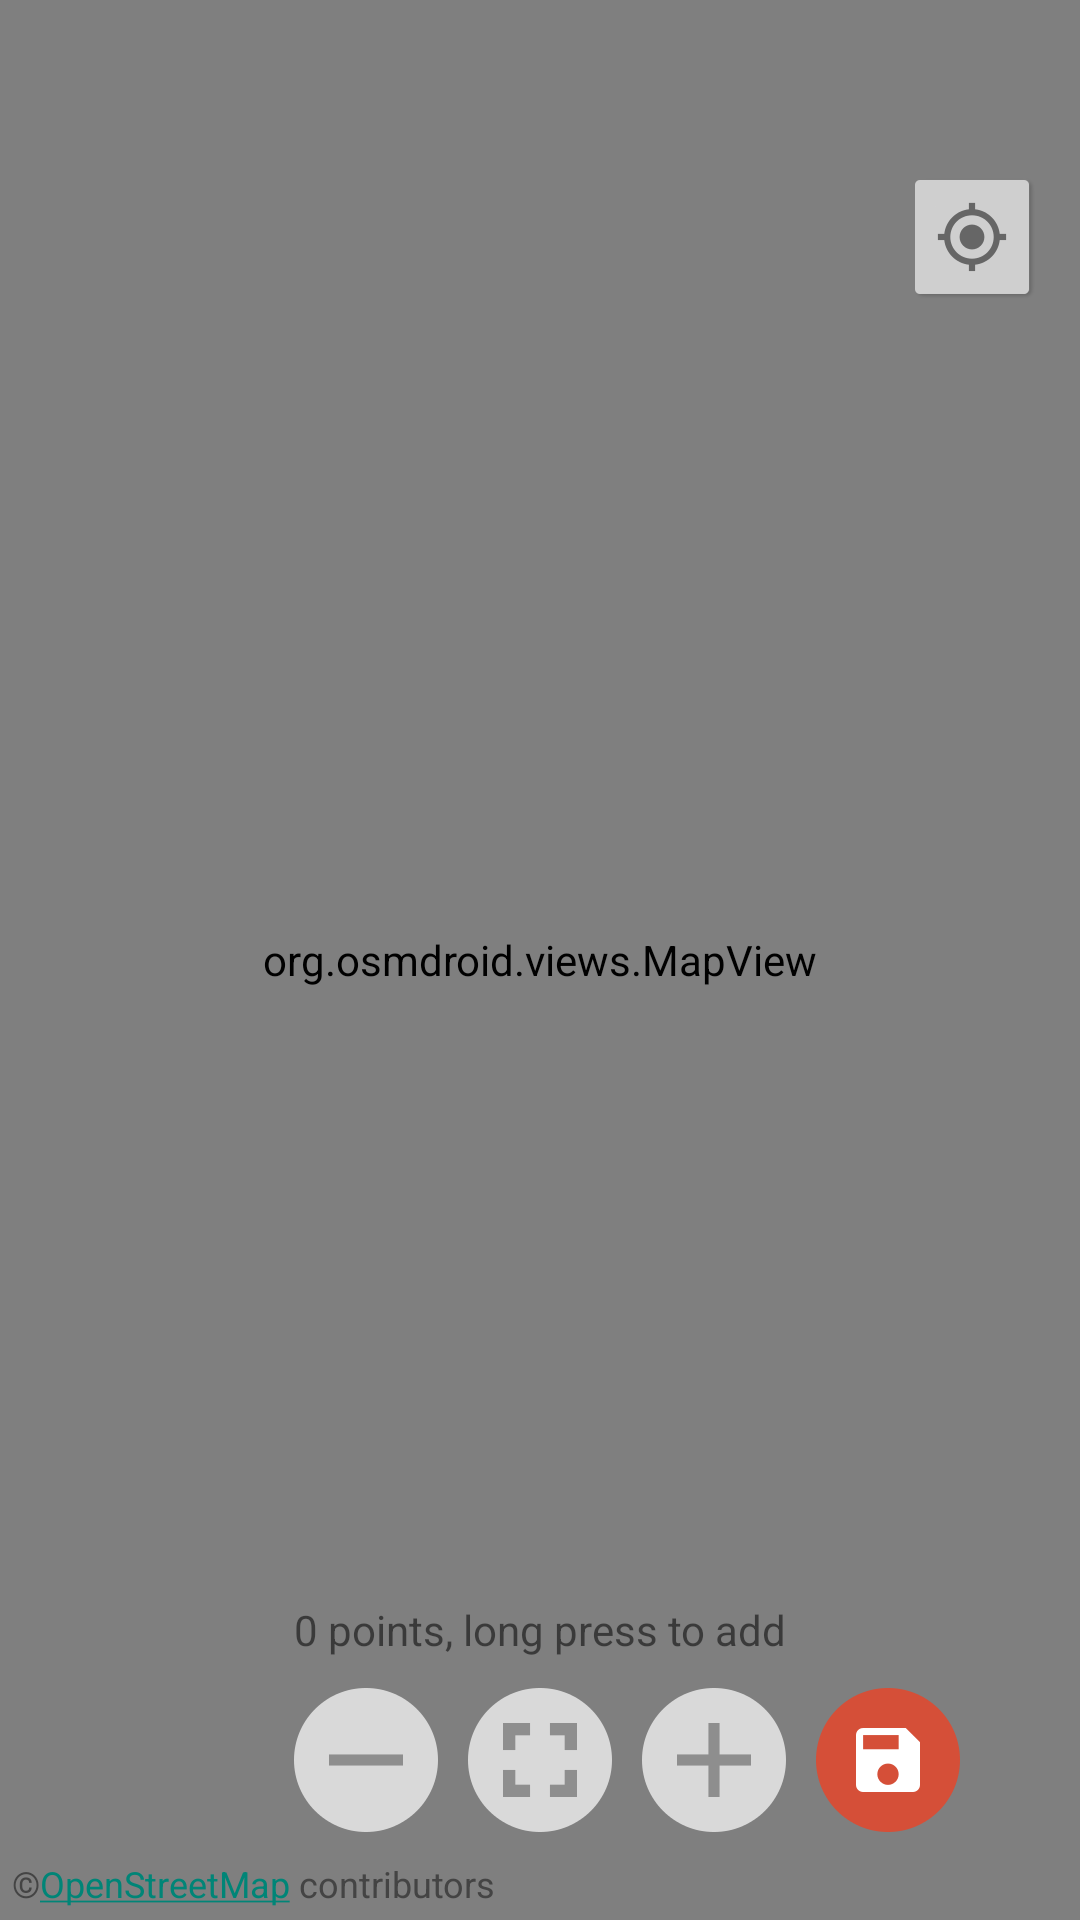

Where icons sit on this 1080px x 1920px app screen, as (left=x1, top=y1, right=x2, bottom=y2):
map fit: (left=468, top=1688, right=612, bottom=1832)
map save: (left=816, top=1688, right=960, bottom=1832)
map zoom in: (left=642, top=1688, right=786, bottom=1832)
map zoom out: (left=294, top=1688, right=438, bottom=1832)
